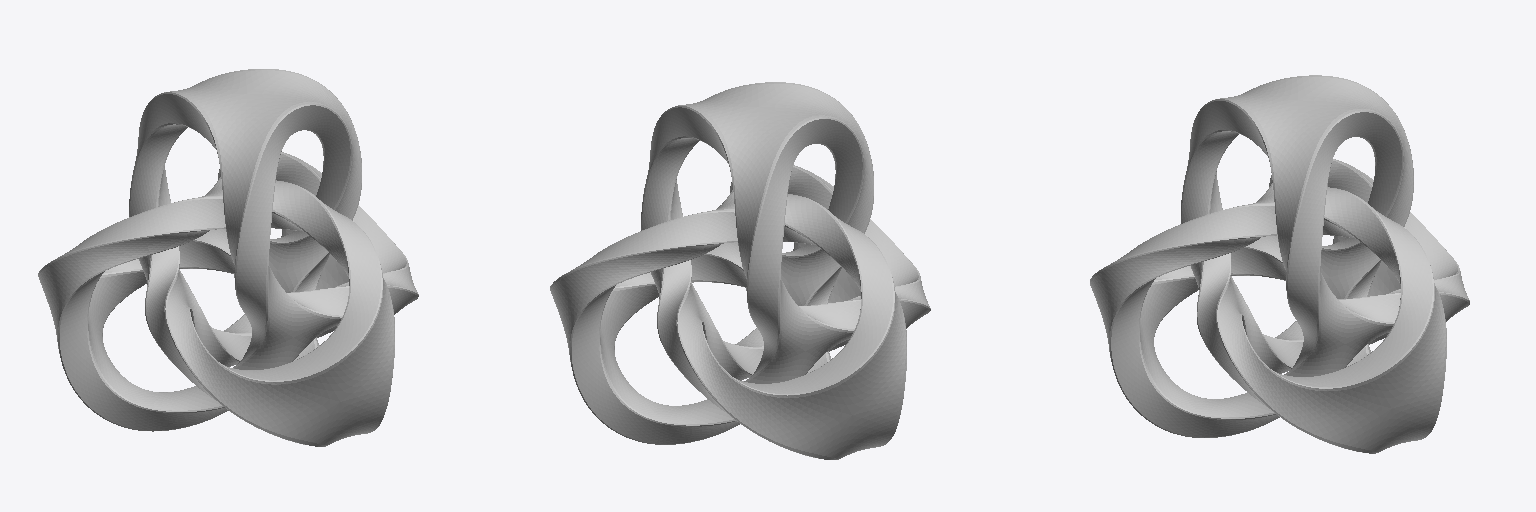
Rendered from abstract_object.obj.
The picture shows the model from 3 angles: view 1: azimuth 30°, elevation 25°; view 2: azimuth 150°, elevation 25°; view 3: azimuth 270°, elevation 25°; orthographic projection.
Visible parts, largest first — view 1: part2, part1; view 2: part2, part1; view 3: part2, part1.
Part boxes in pixels (x1,y1,x2,y2): part2: (44,92,418,444); part1: (38,69,418,446); part2: (553,106,930,458); part1: (550,82,930,459); part2: (1093,99,1469,452); part1: (1090,75,1469,453).
Bounding box in the file's own units: 114 × 101 × 112.